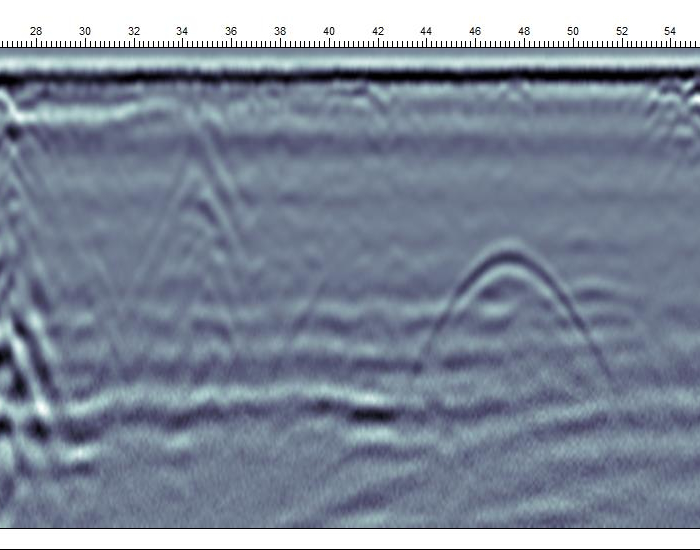hyperbola: (420, 236, 617, 388)
